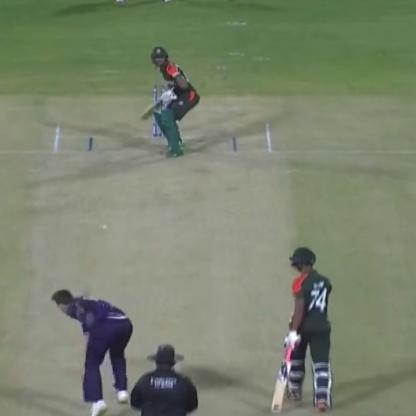ball: (96, 220, 113, 236)
bat: (265, 343, 295, 416), (135, 94, 173, 124)
pitch: (23, 119, 313, 416)
